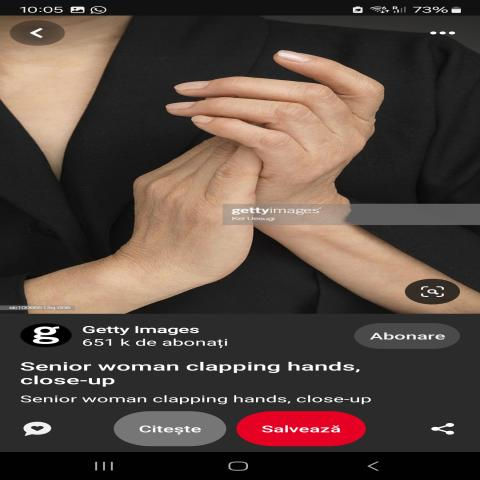hands: (153, 31, 465, 260)
